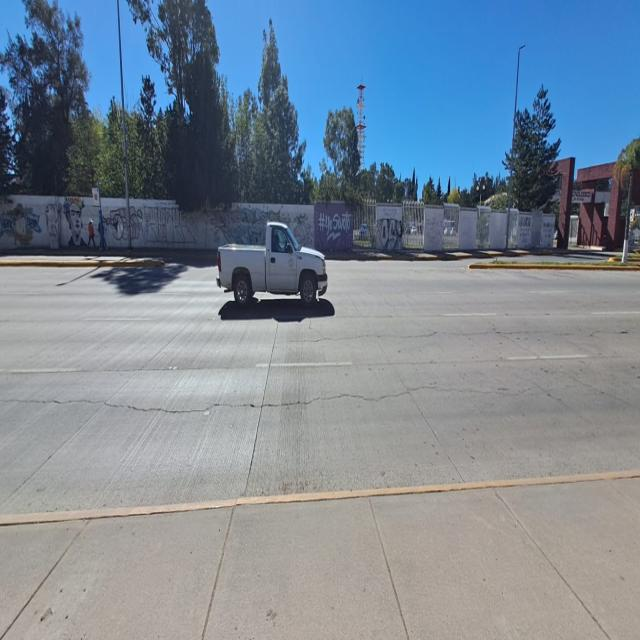Auto: (215, 213, 330, 316)
Autobus: (87, 218, 96, 250)
